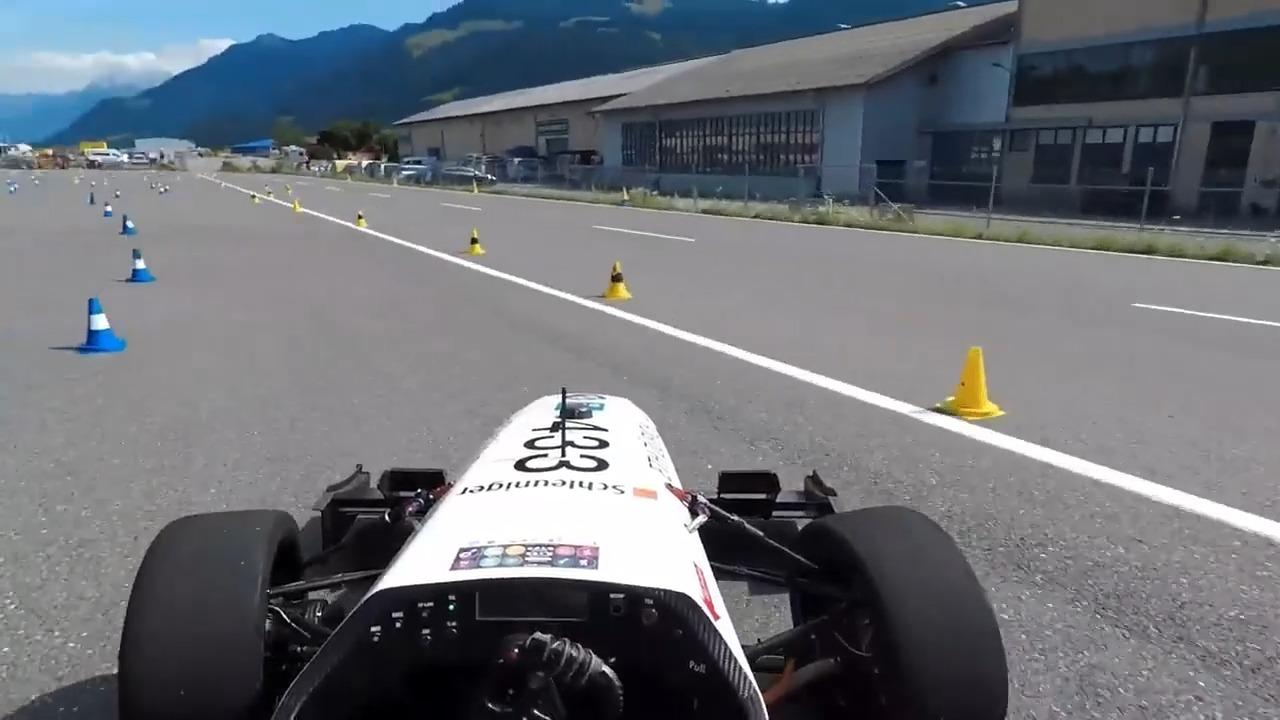blue_cone: (76, 296, 128, 354), (127, 248, 159, 282), (116, 213, 137, 234)
yellow_cone: (933, 343, 1007, 421), (602, 260, 634, 301), (467, 228, 487, 256)
